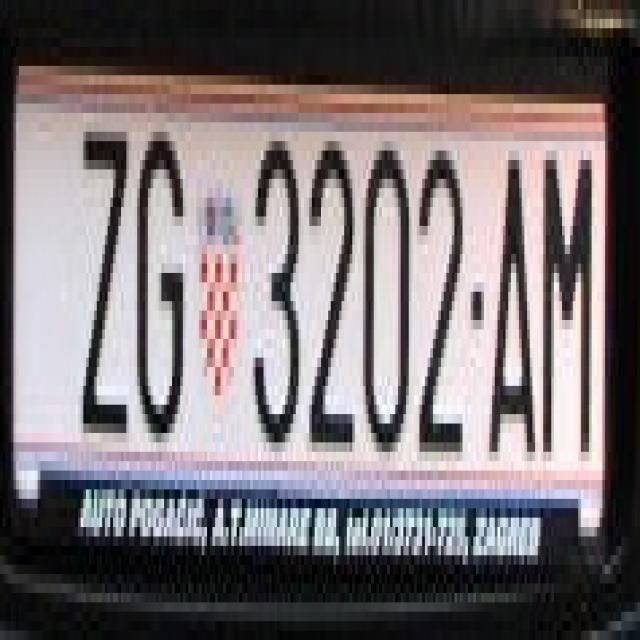0: (358, 160, 408, 442)
2: (414, 122, 468, 442), (306, 132, 358, 433)
3: (255, 142, 304, 442)
A: (490, 141, 538, 452)
G: (132, 122, 186, 433)
M: (535, 132, 597, 480)
Z: (78, 122, 129, 424)
